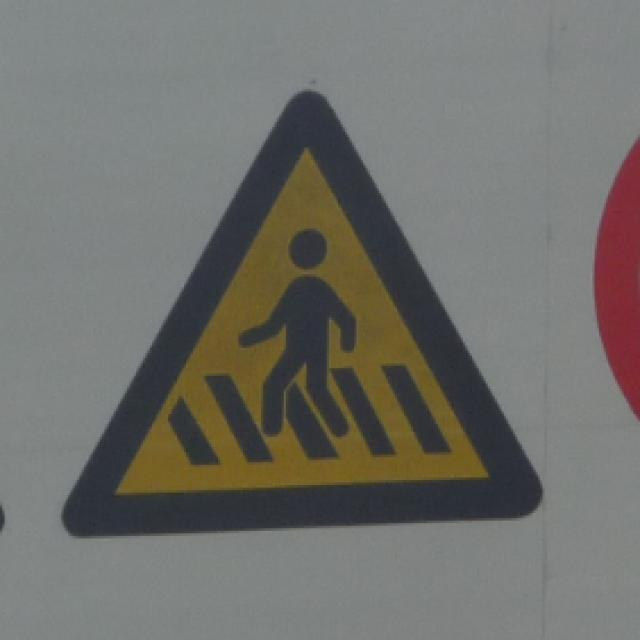Crossing: (68, 79, 548, 560)
